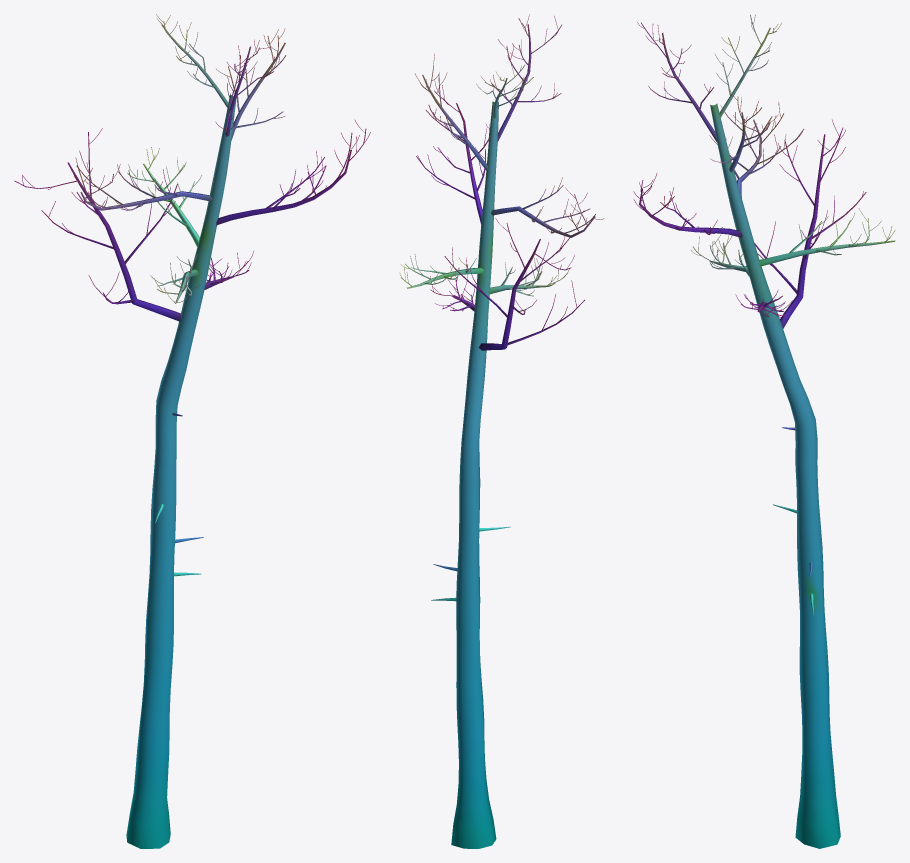
File: pine-old-a.glb
3 views of the same model, side by side, from view 1: azimuth 30°, elevation 25°; view 2: azimuth 150°, elevation 25°; view 3: azimuth 270°, elevation 25° (orthographic). The views are drawn at different scales.
Parts seen in each view (by area): view 1: bark; view 2: bark; view 3: bark.
Boxes of the visible parts, <box> form: bark: <box>14,14,370,848</box>; bark: <box>399,14,603,848</box>; bark: <box>633,14,895,848</box>.
Size of the model in its own units: 8.03 by 25.99 by 7.5.
